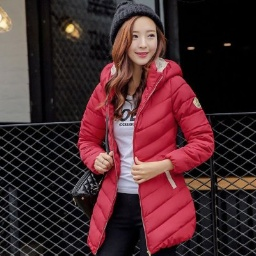face: (108, 13, 166, 71)
